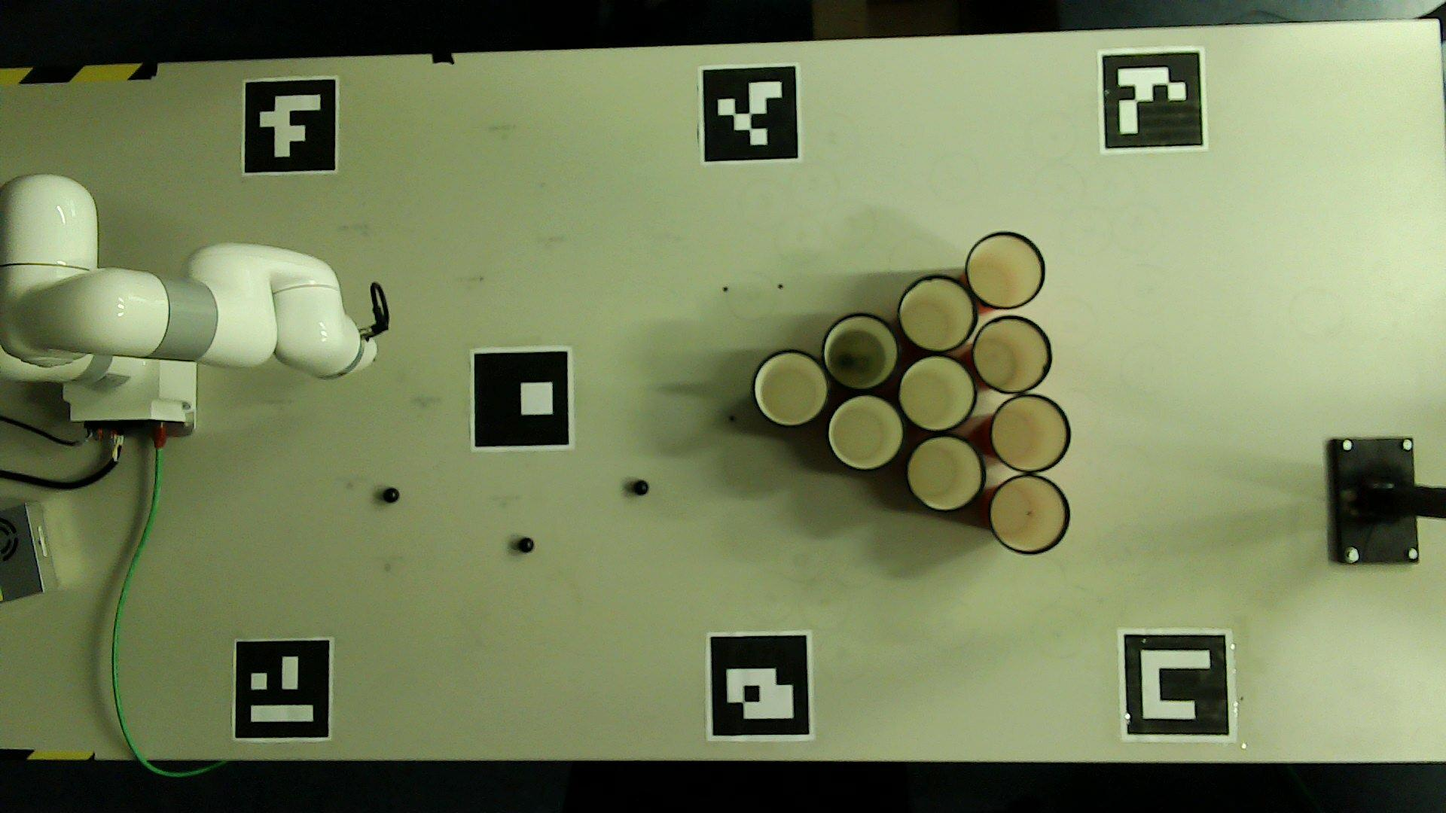ball: (384, 489, 399, 501), (519, 539, 531, 551), (636, 482, 648, 493)
cup: (827, 393, 905, 471), (989, 475, 1066, 553), (991, 395, 1069, 472), (905, 435, 983, 511), (899, 276, 976, 352), (968, 232, 1044, 309), (899, 356, 976, 432), (823, 314, 898, 390), (974, 318, 1050, 393), (754, 350, 828, 426)
